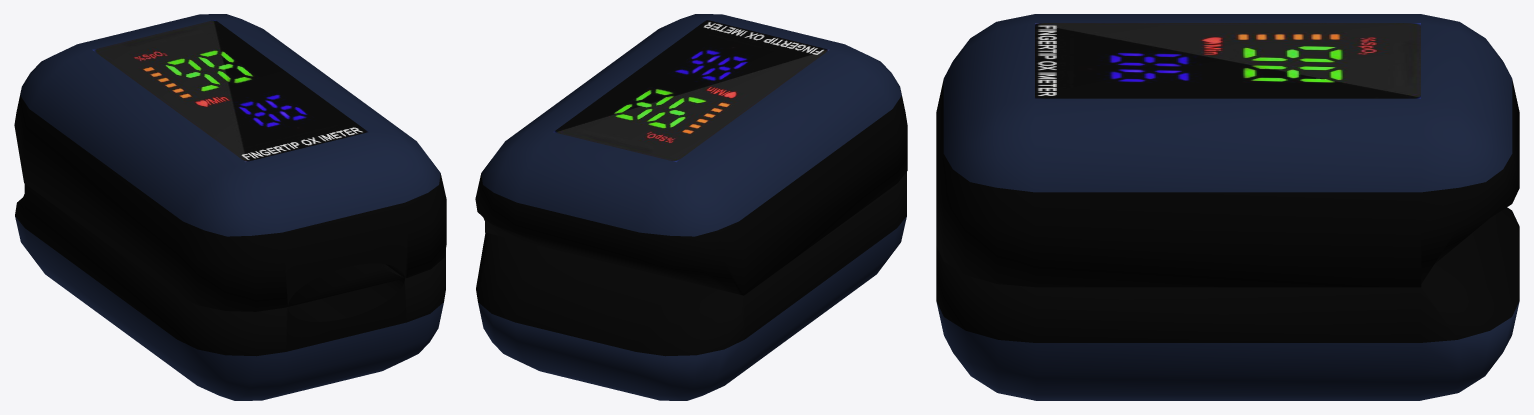
Rendered from BSP01.fbx.
The picture shows the model from 3 angles, left to right: view 1: azimuth 30°, elevation 25°; view 2: azimuth 150°, elevation 25°; view 3: azimuth 270°, elevation 25°; orthographic projection. The views are drawn at different scales.
Parts seen in each view (by area): view 1: BSP01; view 2: BSP01; view 3: BSP01.
Part boxes in pixels (x1,y1,x2,y2): BSP01: [14, 14, 446, 400]; BSP01: [475, 14, 907, 400]; BSP01: [936, 14, 1519, 400].
Bounding box in the file's own units: 2.9 × 2.5 × 4.5.
Materials: 4 (1 with a texture image).
